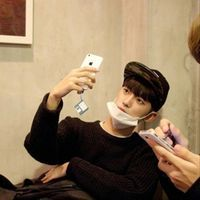face: (111, 77, 153, 121)
